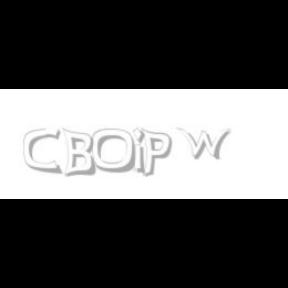B: (62, 128, 96, 178)
C: (24, 128, 60, 174)
O: (92, 128, 136, 174)
P: (140, 128, 172, 178)
i: (133, 128, 149, 176)
w: (176, 128, 236, 160)
